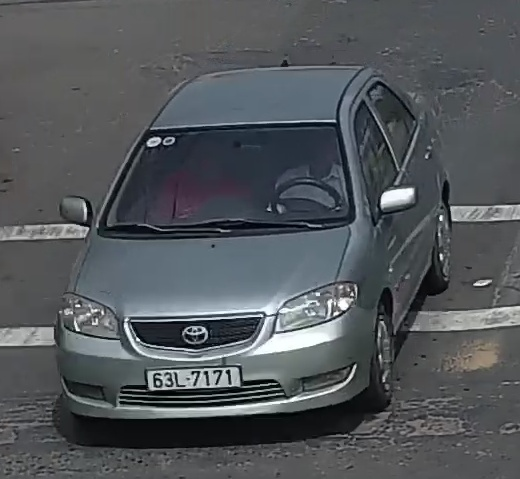vehicle plate: (143, 365, 245, 393)
